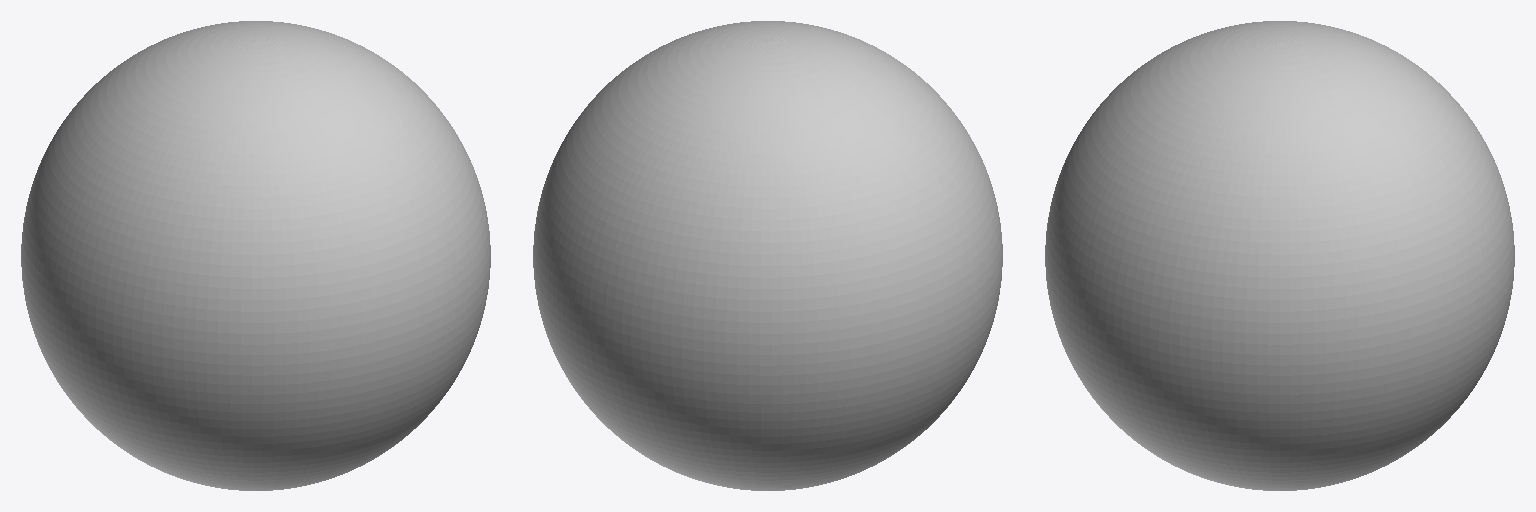
Rendered from hexagonal_concrete_paving_4k.obj.
The picture shows the model from 3 angles: view 1: azimuth 30°, elevation 25°; view 2: azimuth 150°, elevation 25°; view 3: azimuth 270°, elevation 25°; orthographic projection.
Visible parts, largest first — view 1: Sphere; view 2: Sphere; view 3: Sphere.
Boxes of the visible parts, <box> form: Sphere: <box>21,21,490,490</box>; Sphere: <box>533,21,1002,490</box>; Sphere: <box>1045,21,1514,490</box>.
Bounding box in the file's own units: 1.59 × 1.6 × 1.59.